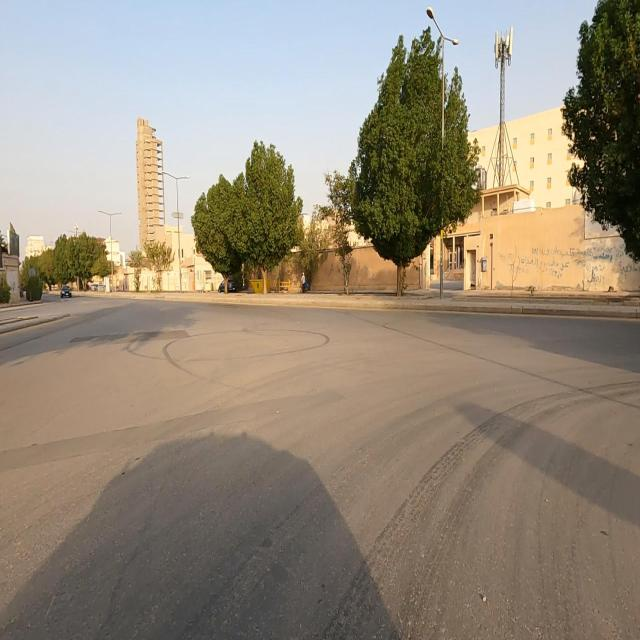Graffiti: (522, 243, 626, 284), (622, 262, 638, 279)
